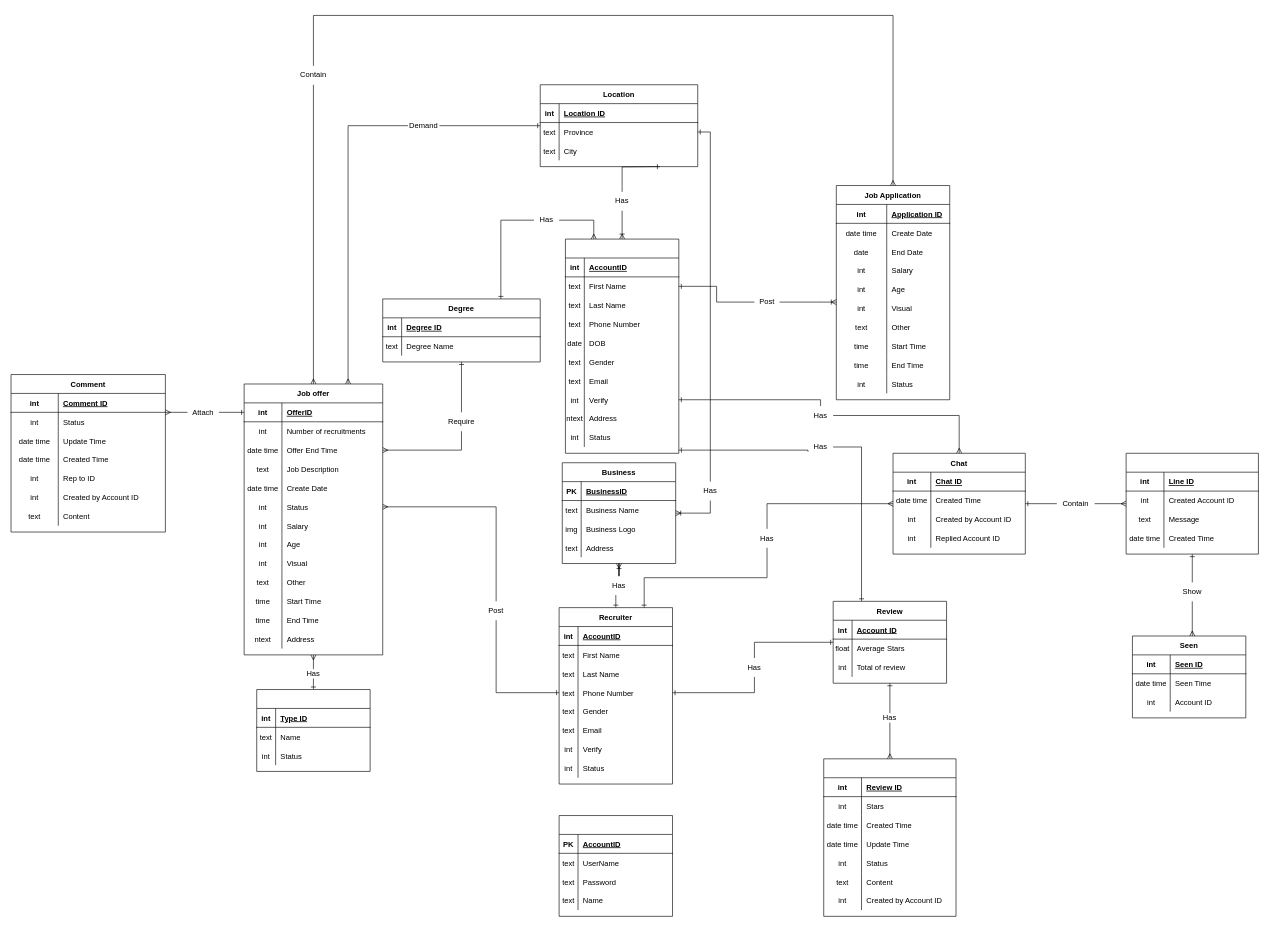
This 1269x927 diagram has some shape labels left out. Here are the shapes that lost their labels. From the top down, the box of each, then its label:
(565, 238, 679, 453): Applicant
(1125, 453, 1258, 554): Chat line
(256, 689, 370, 771): Job type
(823, 758, 956, 916): Review Detail
(558, 815, 673, 916): Admin
